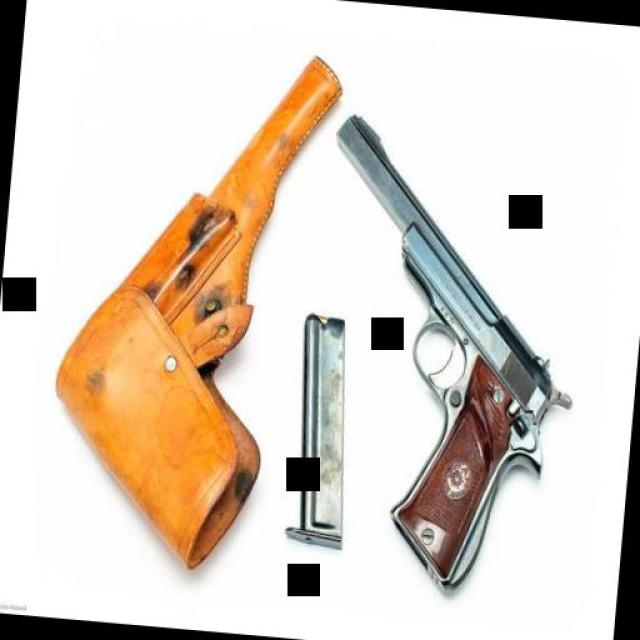gun: (292, 104, 588, 610)
